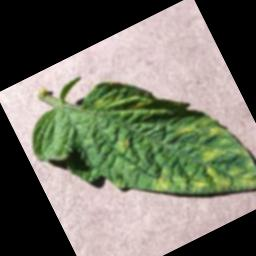Leaf_Mold: (202, 144, 256, 207), (197, 140, 228, 166), (147, 168, 175, 196), (173, 122, 197, 141), (189, 174, 210, 195), (205, 122, 226, 140)
